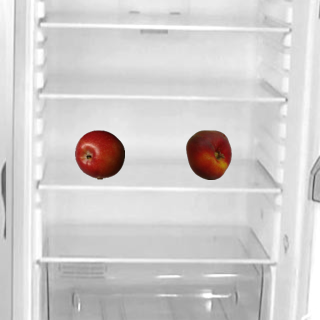Apple Braeburn: (74, 129, 124, 179)
Nectarine Flat: (183, 129, 233, 179)
